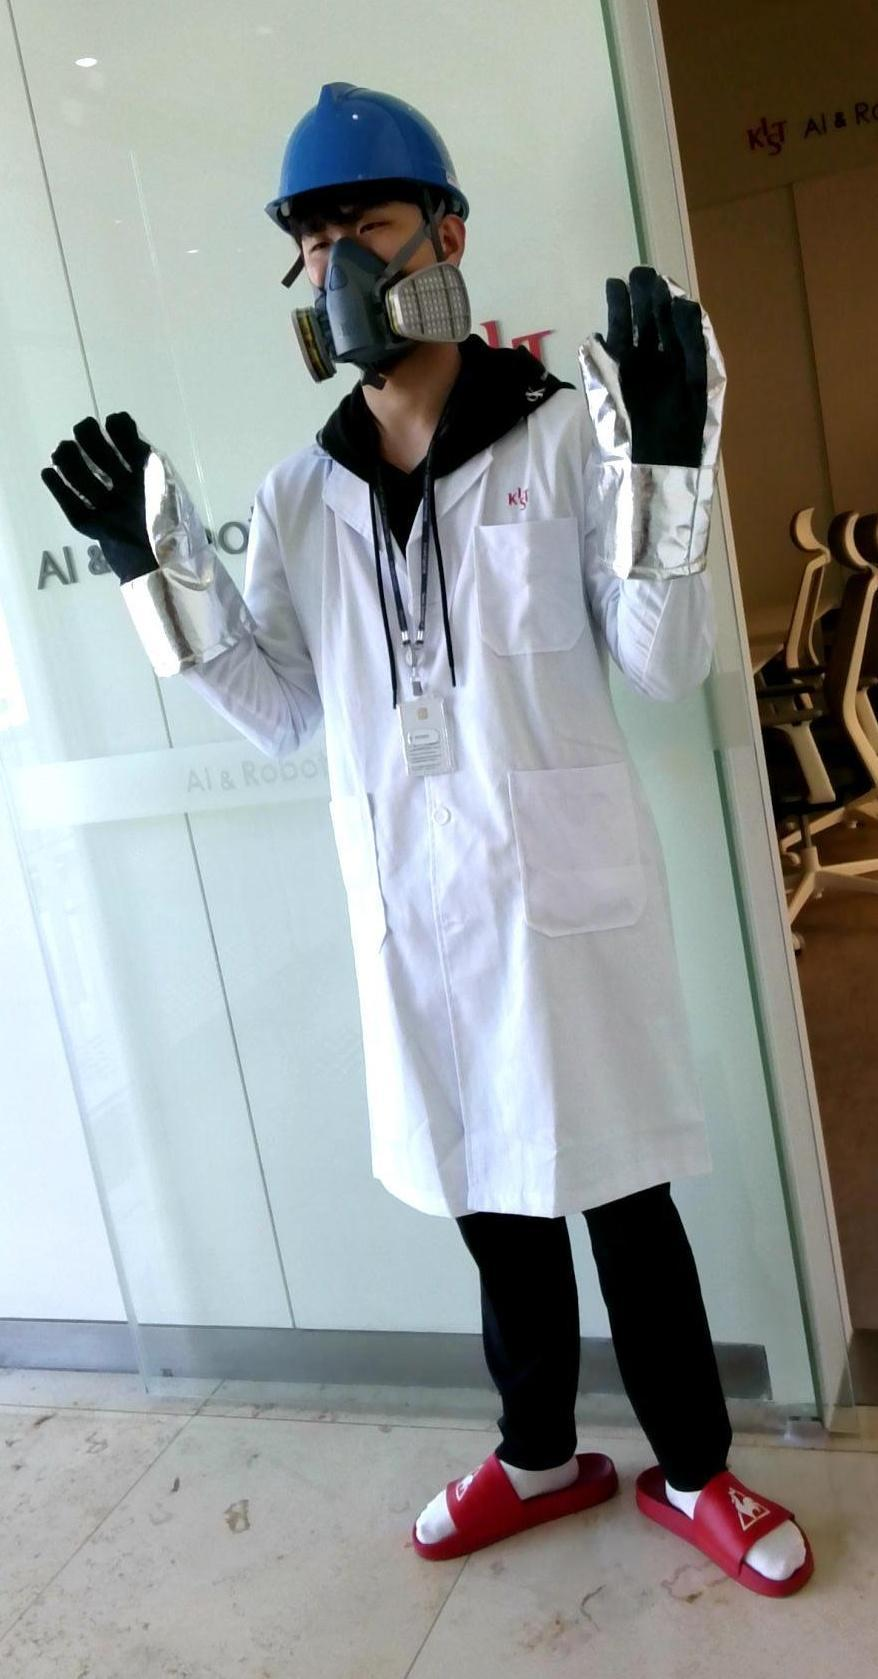lab_coat: (268, 411, 594, 1229)
